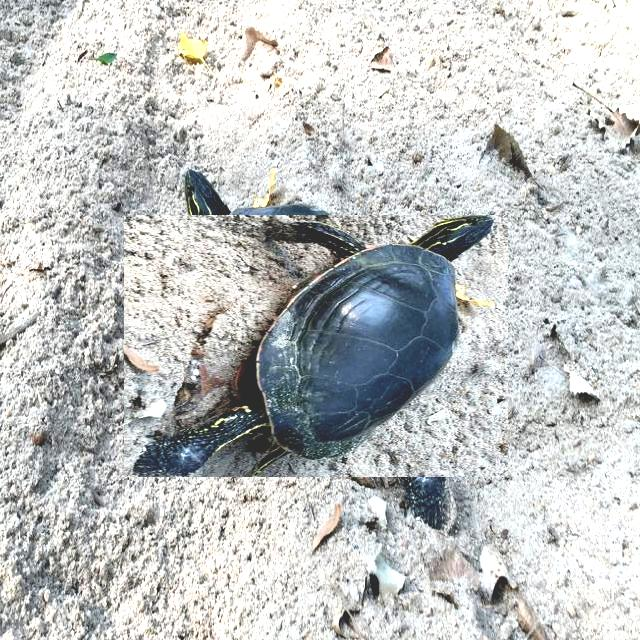Sea turtle: (154, 185, 477, 508)
